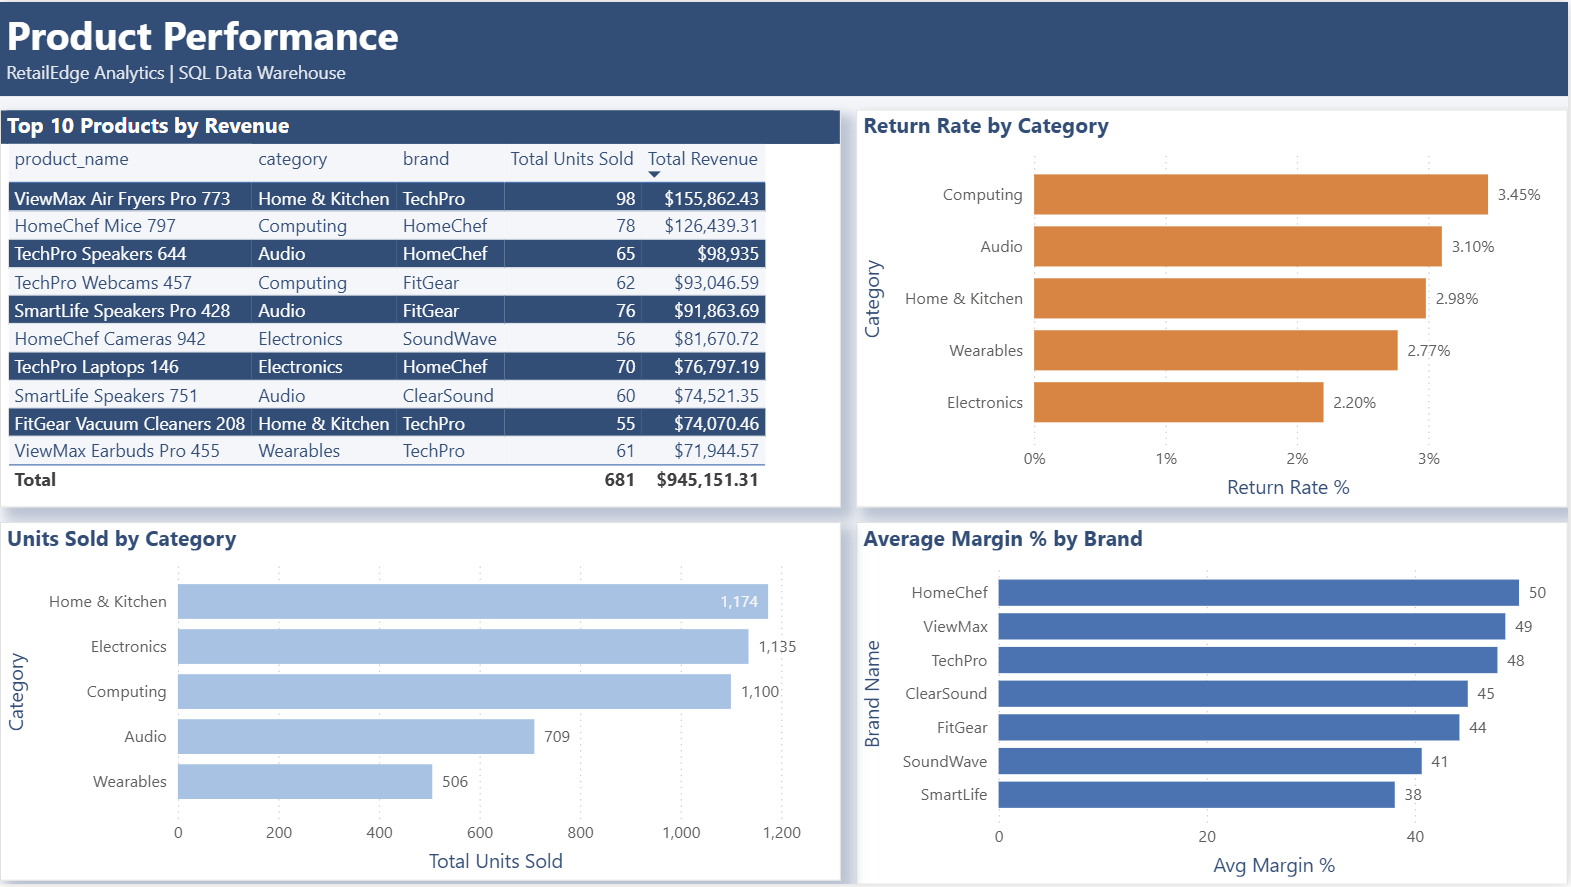

The page's visual inventory and layout, read from the dashboard file:
{"tool":"powerbi","page":{"name":"Product Performance","canvas":[1280,720],"ordinal":1},"visuals":[{"type":"textbox","box":[0,0,1279.8,76.6],"z":0},{"type":"tableEx","title":"Top 10 Products by Revenue","fields":{"Values":["gold dim_product.product_name","gold dim_product.category","gold dim_product.brand","gold fact_sales.Total Units Sold","gold fact_sales.Total Revenue"]},"box":[0,87.8,686.7,324.5],"z":1},{"type":"clusteredBarChart","title":"Return Rate by Category","fields":{"Category":["gold dim_product.category"],"Y":["gold dim_customer.Return Rate %"]},"box":[699,87.8,580.6,324.5],"z":3},{"type":"clusteredBarChart","title":" Average Margin % by Brand","fields":{"Y":["gold dim_customer.Avg Margin %"],"Category":["gold dim_product.brand"]},"box":[699,424.5,580.6,295.9],"z":4},{"type":"clusteredBarChart","title":"Units Sold by Category","fields":{"Category":["gold dim_product.category"],"Y":["gold fact_sales.Total Units Sold"]},"box":[0,424.5,686.7,292.9],"z":5}]}

Visuals, with their boxes in screenshot pixels (x1, y1, x2, y2), scaled from the page's 1280x720 canvas onto the 1571x887 screenshot:
textbox: <bbox>0, 0, 1570, 94</bbox>
"Top 10 Products by Revenue" tableEx: <bbox>0, 108, 843, 508</bbox>
"Return Rate by Category" clusteredBarChart: <bbox>858, 108, 1570, 508</bbox>
" Average Margin % by Brand" clusteredBarChart: <bbox>858, 523, 1570, 886</bbox>
"Units Sold by Category" clusteredBarChart: <bbox>0, 523, 843, 884</bbox>
